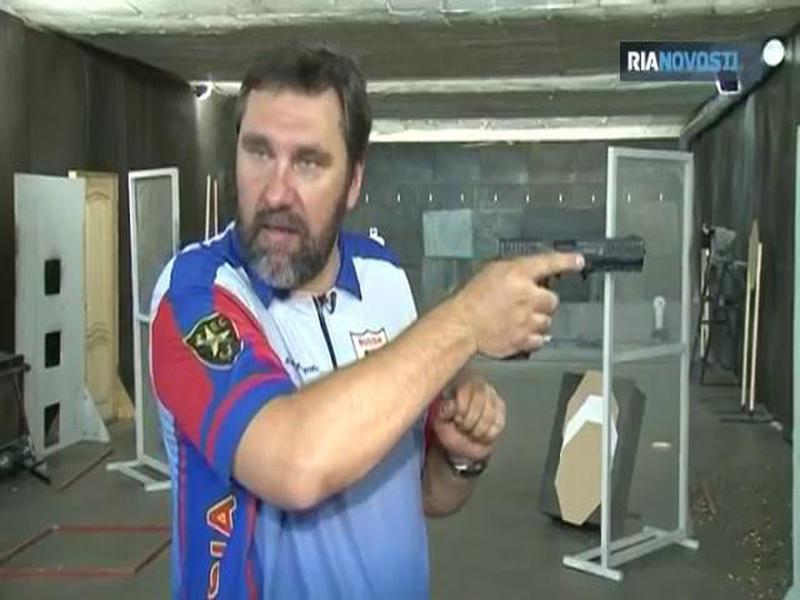Pistola: (488, 227, 657, 372)
